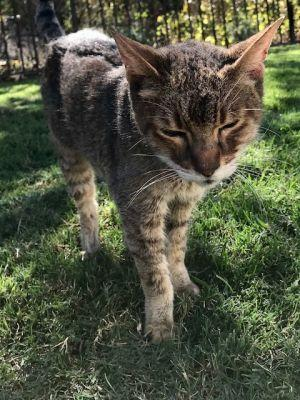bengal: (103, 1, 292, 202)
